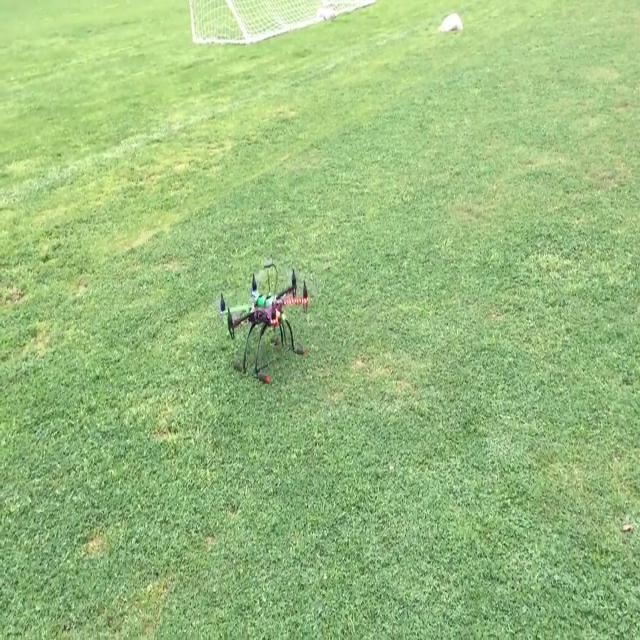drone: (208, 253, 322, 381)
